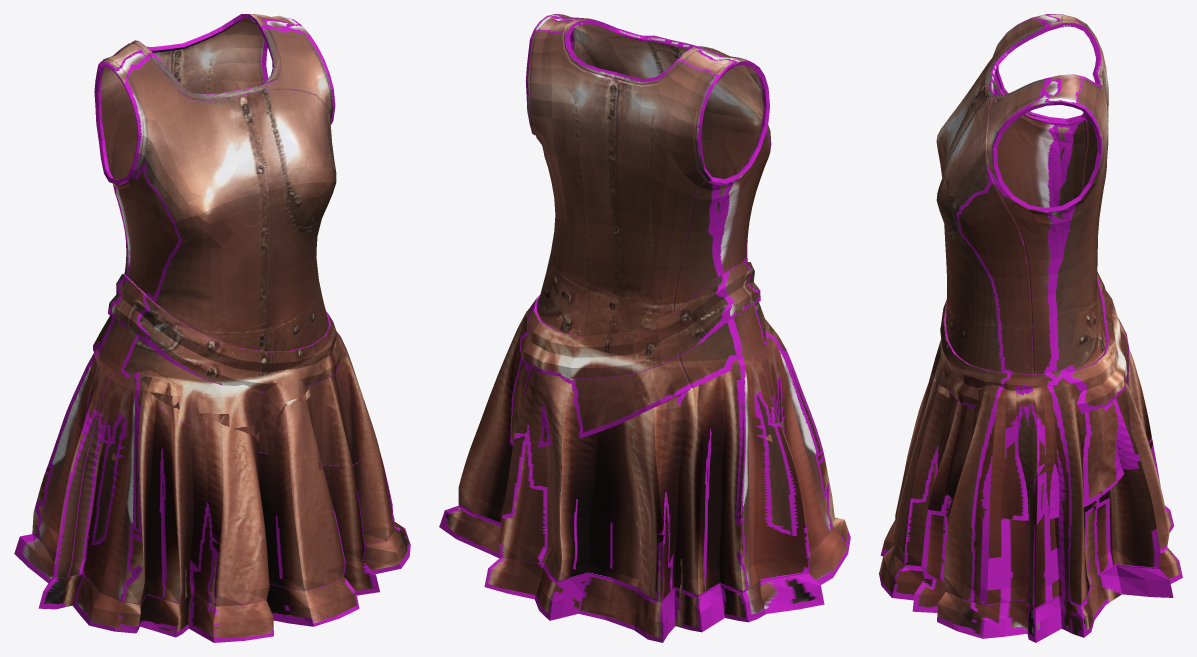
3 renders of one model, left to right at view 1: azimuth 30°, elevation 25°; view 2: azimuth 150°, elevation 25°; view 3: azimuth 270°, elevation 25°, orthographic. The views are drawn at different scales.
Size of the model in its own units: 0.7353 by 1.08 by 0.5602.
Materials: 1 (1 with a texture image).
